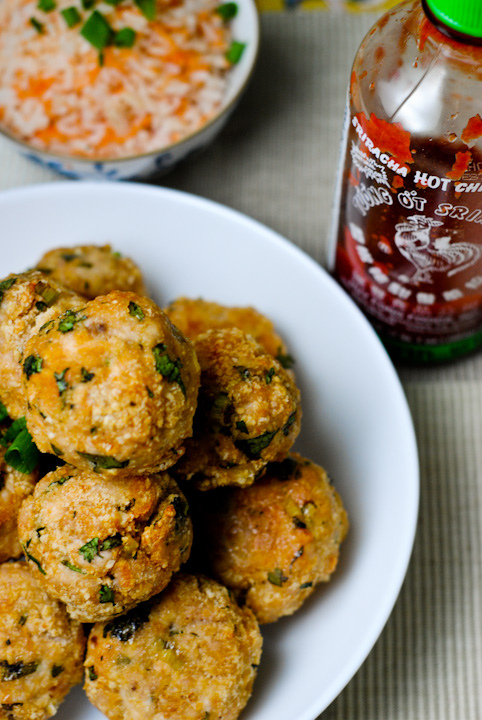meatballs: (20, 238, 331, 706)
